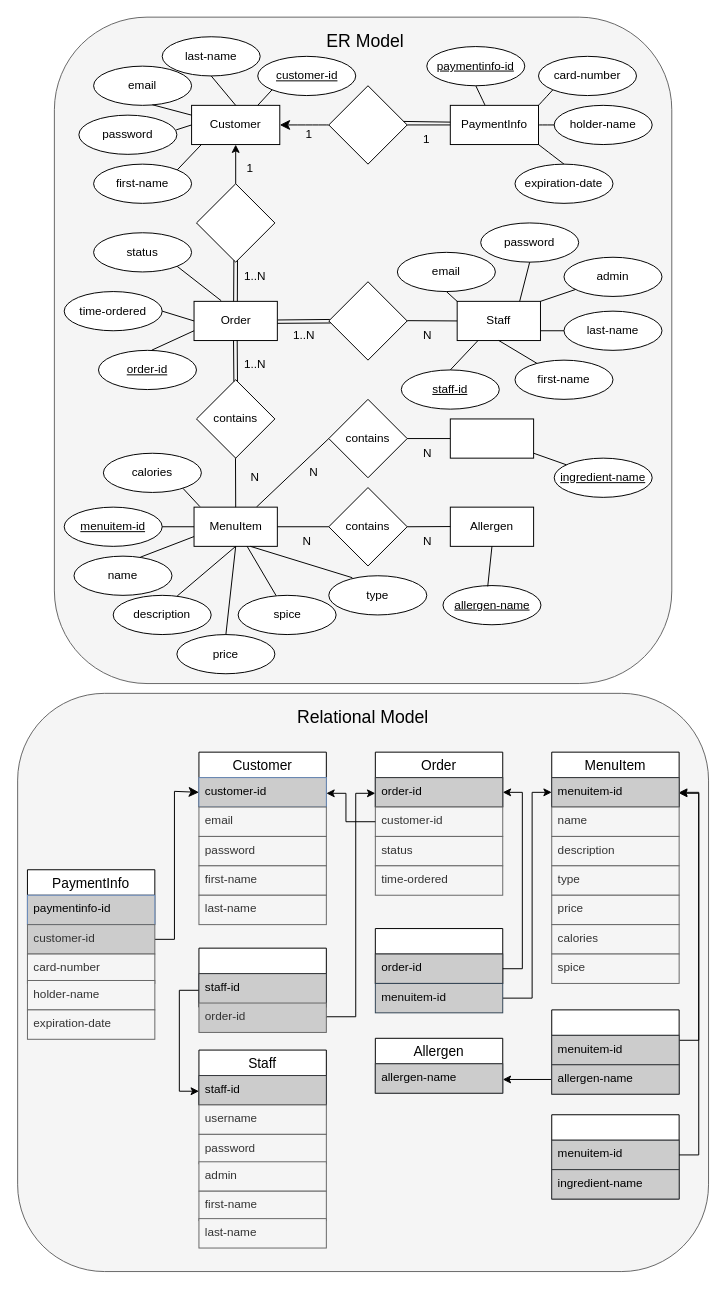
The diagram is 725 pixels wide and 1289 high, and some of its shapes have lost their labels. Here are the shapes that lost their labels. From the top down, the box of each, then its label:
(328, 85, 407, 164): has
(196, 183, 275, 262): makes
(328, 281, 407, 360): handles
(449, 418, 534, 458): Ingredient
(374, 928, 503, 983): OrderMenu
(198, 947, 326, 1007): StaffOrder
(551, 1009, 679, 1094): MenuAllergen
(551, 1114, 679, 1199): MenuIngredient
